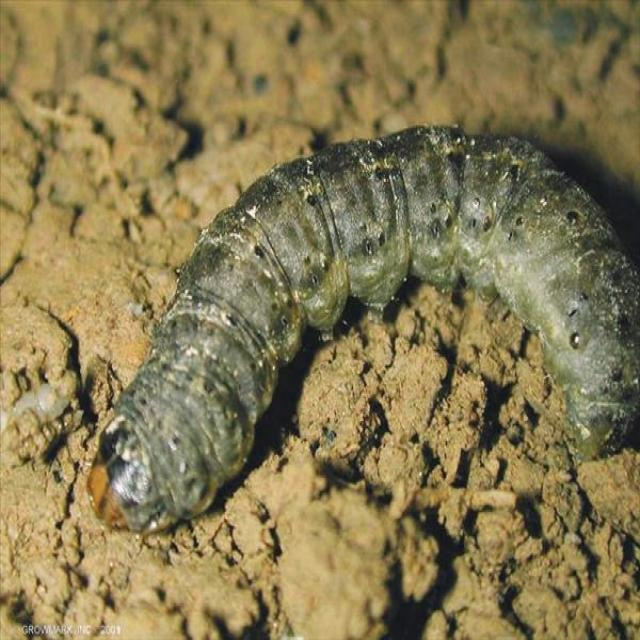black cutworm: (89, 125, 638, 540)
